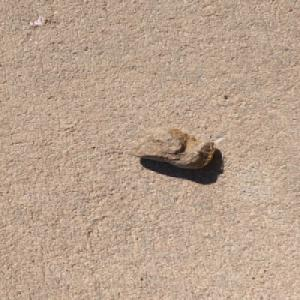Rock: (126, 125, 215, 169)
